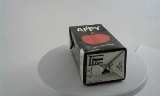appy: (62, 24, 118, 86)
